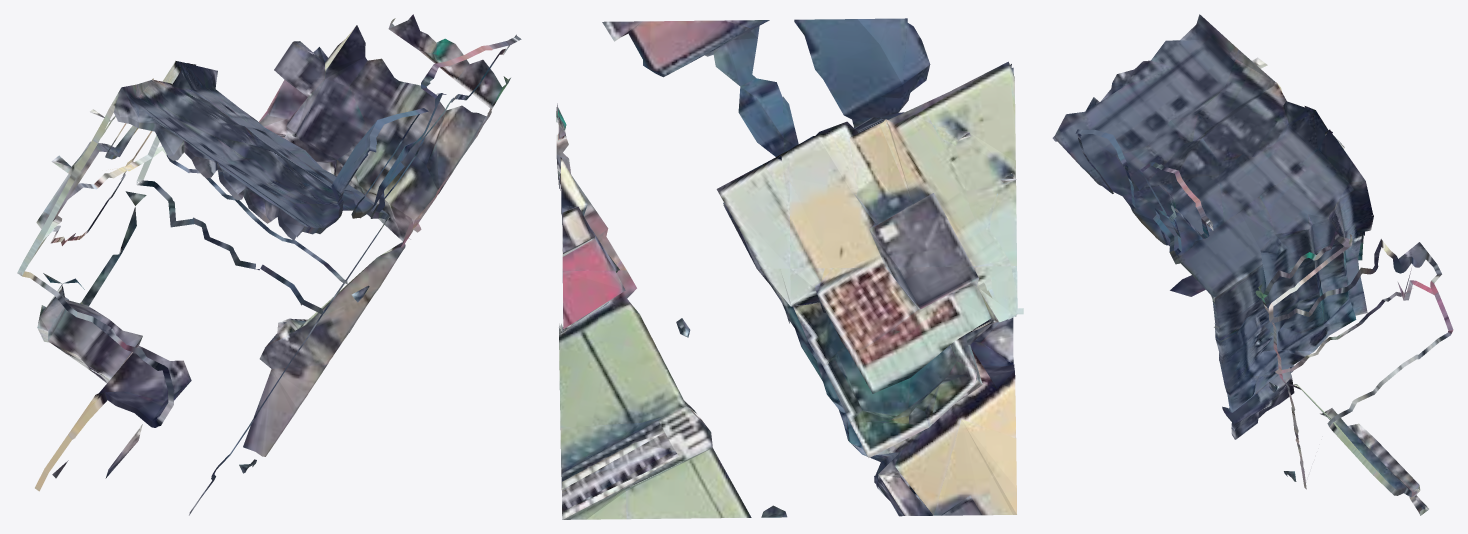
3 views of the same model, side by side, from view 1: azimuth 30°, elevation 25°; view 2: azimuth 150°, elevation 25°; view 3: azimuth 270°, elevation 25° (orthographic). The views are drawn at different scales.
Size of the model in its own units: 42.62 by 39.06 by 36.27.
Materials: 2 (2 with a texture image).
